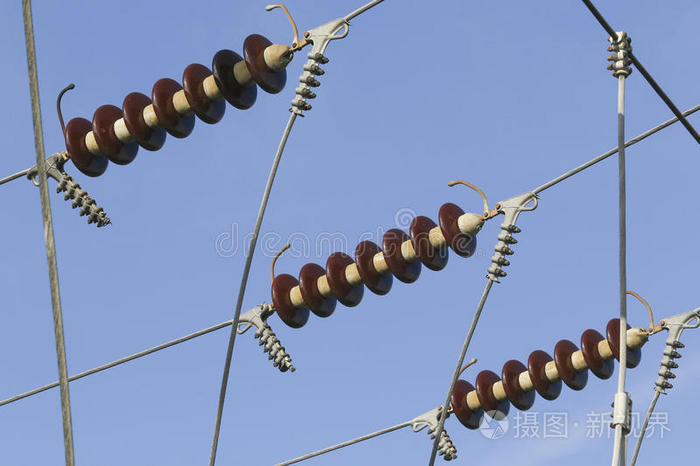insulator: (65, 32, 287, 177), (273, 203, 477, 328), (450, 319, 644, 432)
